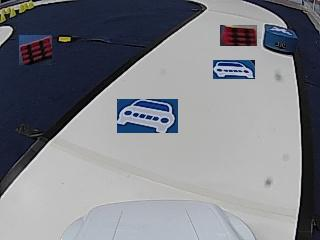prop: (263, 23, 297, 55)
